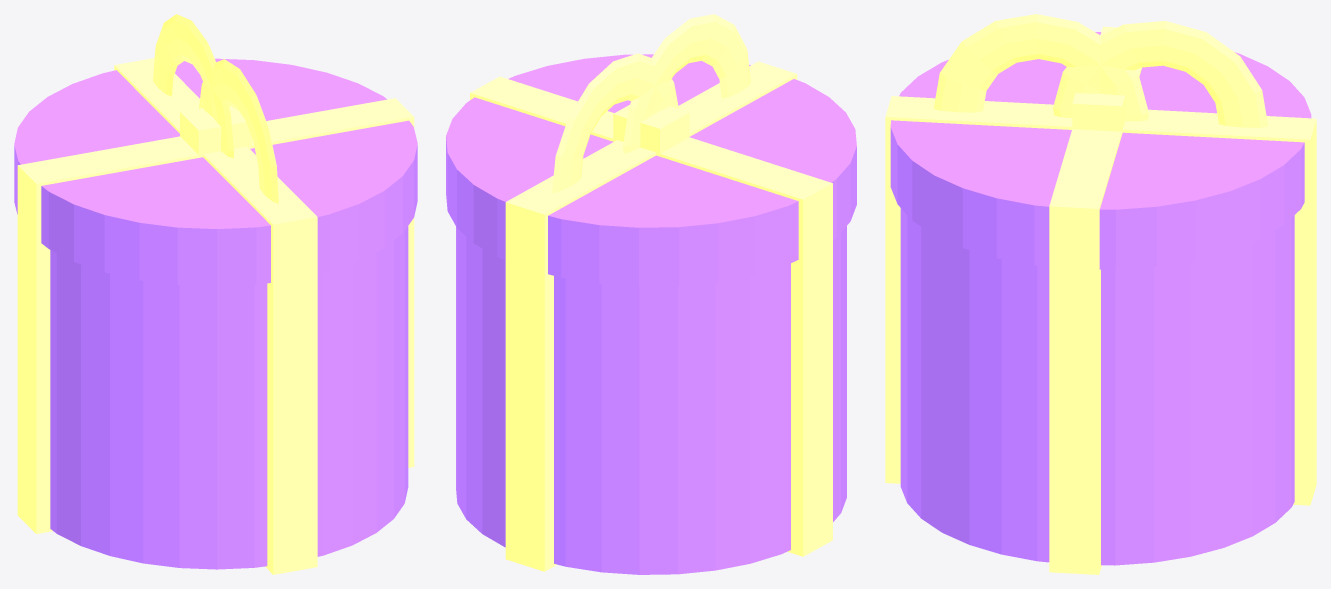
The model's file is Tmpl_Round_Root_219.glb.
3 renders of one model, left to right at view 1: azimuth 30°, elevation 25°; view 2: azimuth 150°, elevation 25°; view 3: azimuth 270°, elevation 25°, orthographic. The views are drawn at different scales.
Parts seen in each view (by area): view 1: Tmpl_Round_Base.217, Tmpl_Round_Lid.217, Tmpl_Round_Ribbon_X.217, Tmpl_Round_Ribbon_Y.217, Tmpl_Round_BowL.217, Tmpl_Round_BowR.217, Tmpl_Round_BowKnot.217; view 2: Tmpl_Round_Base.217, Tmpl_Round_Lid.217, Tmpl_Round_Ribbon_X.217, Tmpl_Round_Ribbon_Y.217, Tmpl_Round_BowR.217, Tmpl_Round_BowL.217, Tmpl_Round_BowKnot.217; view 3: Tmpl_Round_Base.217, Tmpl_Round_Lid.217, Tmpl_Round_Ribbon_Y.217, Tmpl_Round_Ribbon_X.217, Tmpl_Round_BowR.217, Tmpl_Round_BowL.217, Tmpl_Round_BowKnot.217.
Part boxes in pixels (x1,y1,x2,y2): Tmpl_Round_Base.217: [50, 226, 408, 569]; Tmpl_Round_Lid.217: [14, 58, 417, 286]; Tmpl_Round_Ribbon_X.217: [114, 58, 317, 574]; Tmpl_Round_Ribbon_Y.217: [17, 98, 414, 533]; Tmpl_Round_BowL.217: [153, 14, 234, 158]; Tmpl_Round_BowR.217: [199, 59, 278, 203]; Tmpl_Round_BowKnot.217: [180, 106, 251, 157]; Tmpl_Round_Base.217: [456, 226, 846, 574]; Tmpl_Round_Lid.217: [446, 54, 856, 286]; Tmpl_Round_Ribbon_X.217: [505, 61, 797, 571]; Tmpl_Round_Ribbon_Y.217: [470, 76, 832, 556]; Tmpl_Round_BowR.217: [623, 14, 750, 153]; Tmpl_Round_BowL.217: [552, 53, 678, 193]; Tmpl_Round_BowKnot.217: [613, 105, 689, 155]; Tmpl_Round_Base.217: [900, 208, 1294, 565]; Tmpl_Round_Lid.217: [890, 32, 1311, 269]; Tmpl_Round_Ribbon_Y.217: [1049, 26, 1141, 574]; Tmpl_Round_Ribbon_X.217: [885, 96, 1316, 505]; Tmpl_Round_BowR.217: [933, 14, 1148, 121]; Tmpl_Round_BowL.217: [1053, 21, 1268, 127]; Tmpl_Round_BowKnot.217: [1072, 93, 1125, 131].
Bounding box in the file's own units: 0.853 × 1.02 × 0.853.
